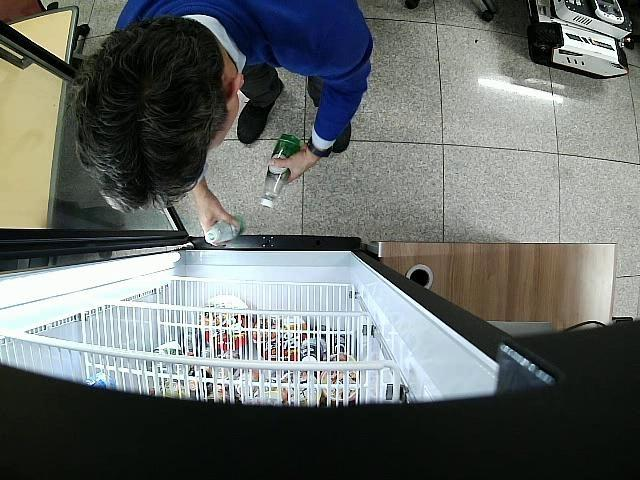18_trevi: (258, 134, 300, 208), (206, 216, 244, 243)
